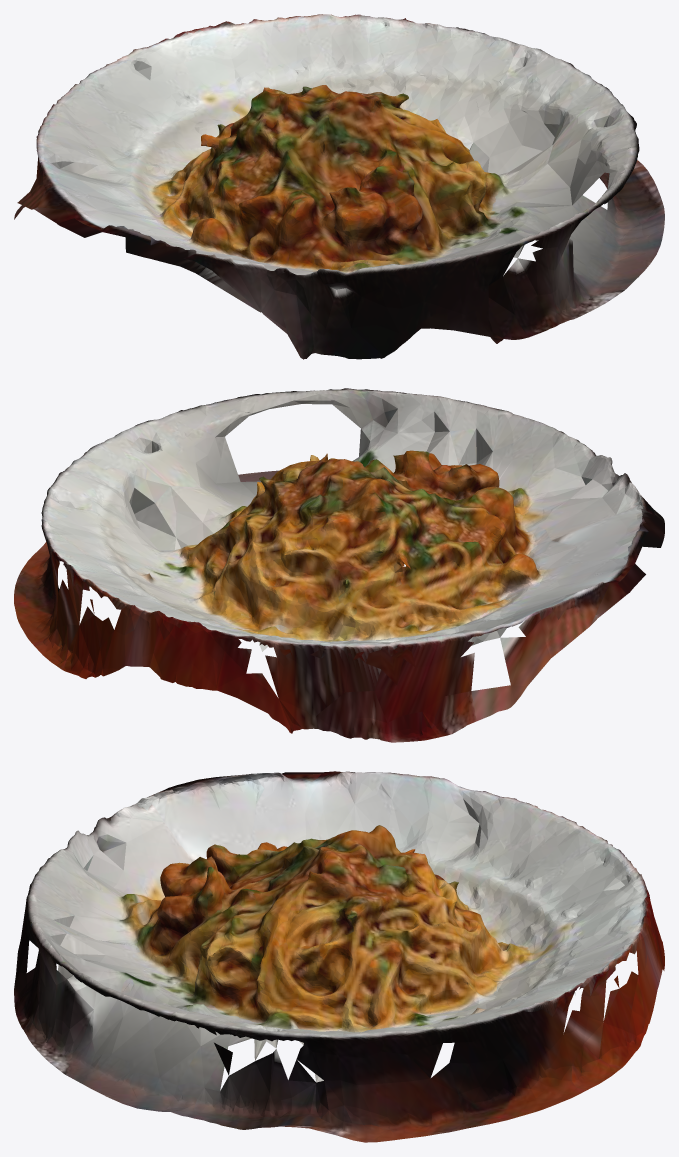
File: lagmon.glb
3 renders of one model, top to bottom at view 1: azimuth 30°, elevation 25°; view 2: azimuth 150°, elevation 25°; view 3: azimuth 270°, elevation 25°, orthographic. The views are drawn at different scales.
Parts seen in each view (by area): view 1: mesh; view 2: mesh; view 3: mesh.
Part boxes in pixels (box(x1,y1,x2,y2)): mesh: box(14, 14, 664, 359); mesh: box(14, 388, 664, 742); mesh: box(14, 771, 664, 1142).
Size of the model in its own units: 0.24 by 0.0635 by 0.2288.
Materials: 1 (1 with a texture image).
